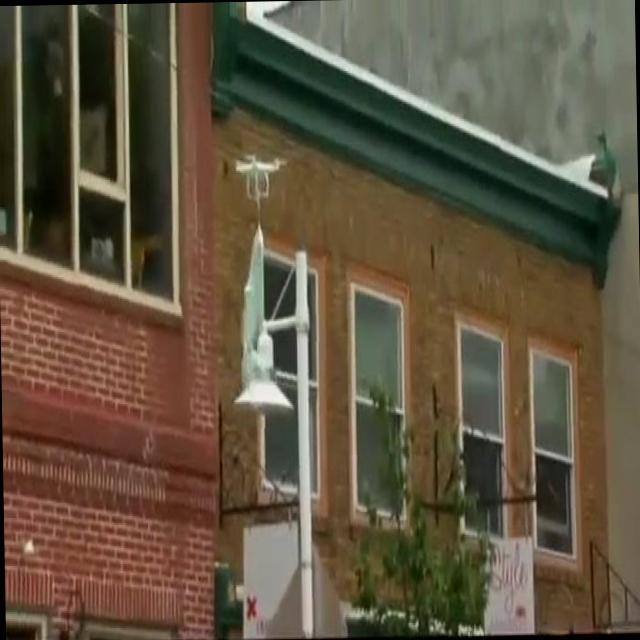drone: (232, 147, 286, 208)
